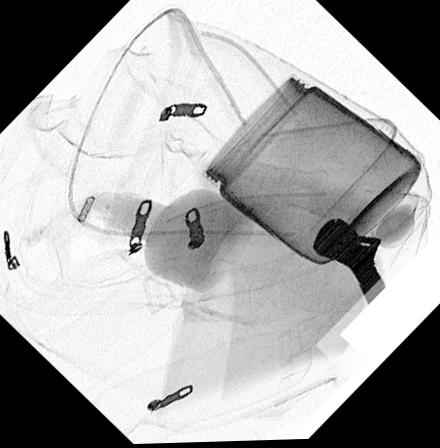Wrench: (310, 216, 388, 309)
